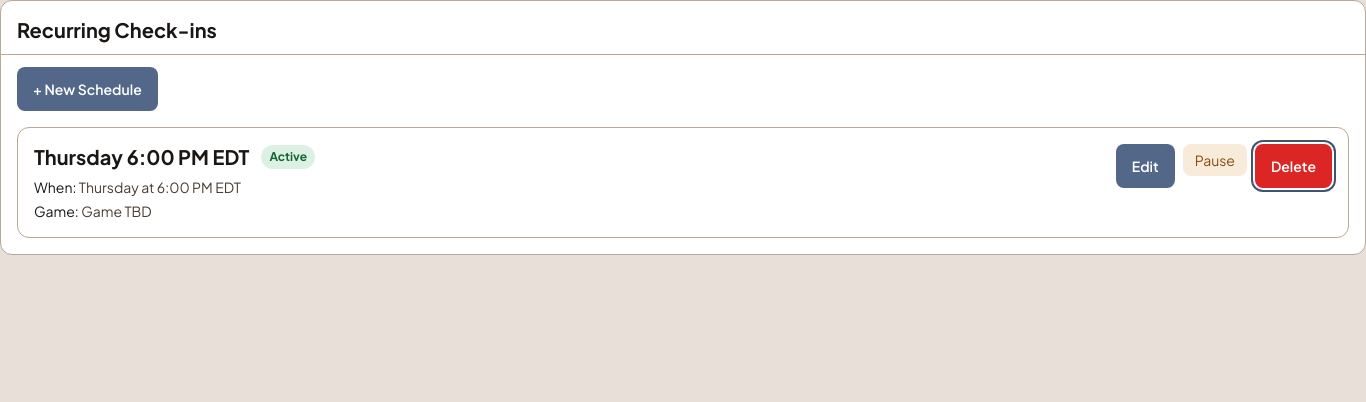
Test case: PromptScheduleManager — Recurring Check-ins focus never falls to <body> (88.6.1-30, D-04/D-05) › T2. focus moves only when a removal commits, and only once (R5 ordering backstop)
This screenshot has width=1366, height=402.
Click the button "Delete" at (1293, 166), box [1255,144,1332,188]
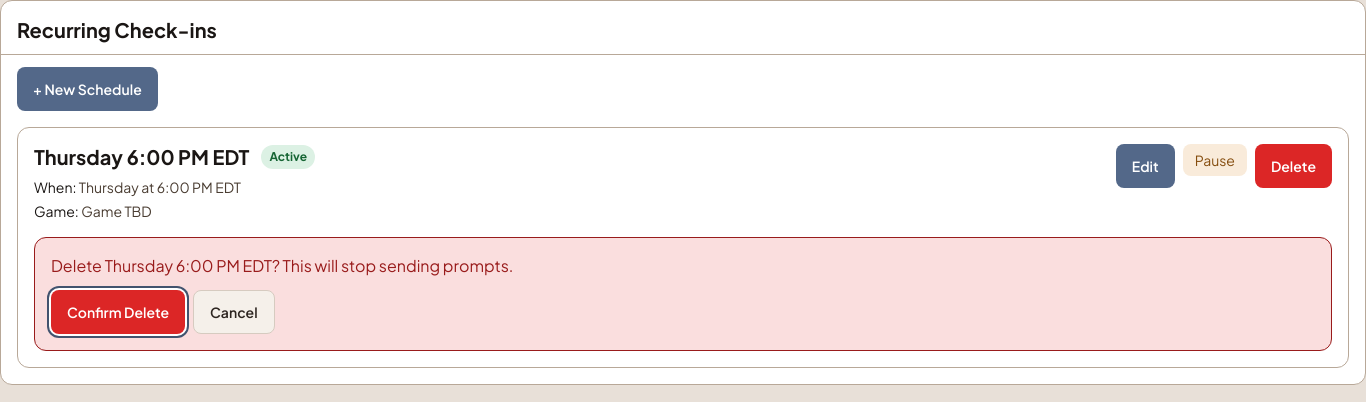
Click the button "Confirm Delete" at (118, 312), box [51,290,185,334]
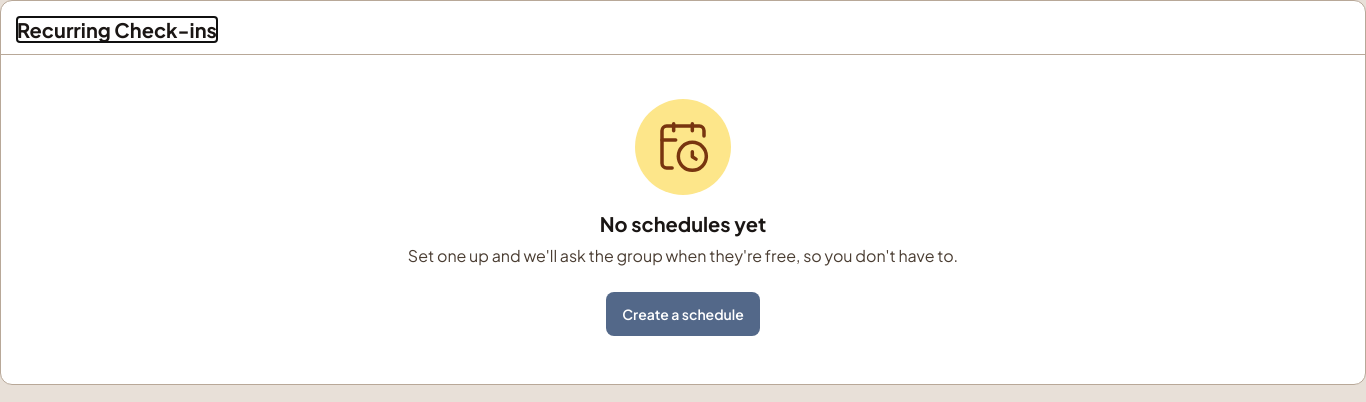
expect the heading "No schedules yet" is shown: met, box [600,211,766,236]
